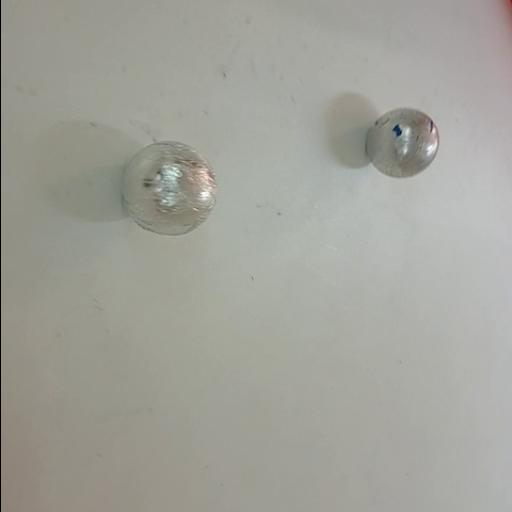alive: (118, 138, 218, 238), (365, 106, 439, 178)
